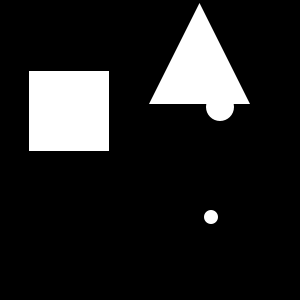circle: (29, 71, 109, 151)
rectangle: (206, 93, 234, 121), (204, 210, 218, 224)
triangle: (149, 3, 250, 104)
